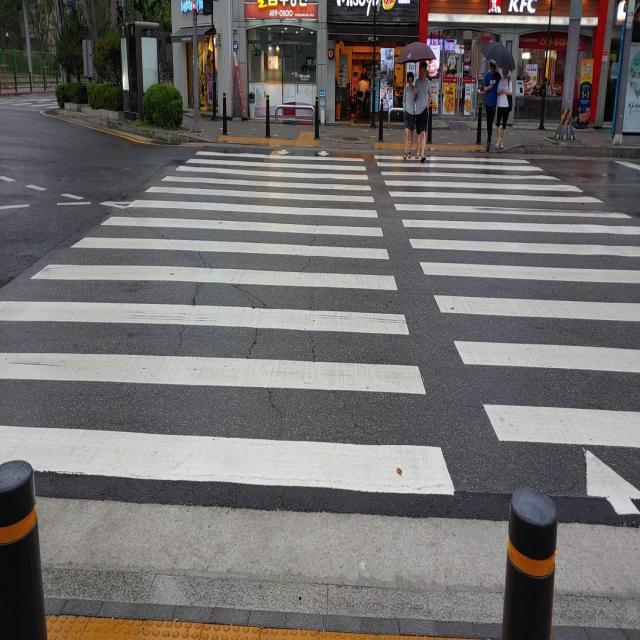횡단보도: (0, 147, 640, 521)
